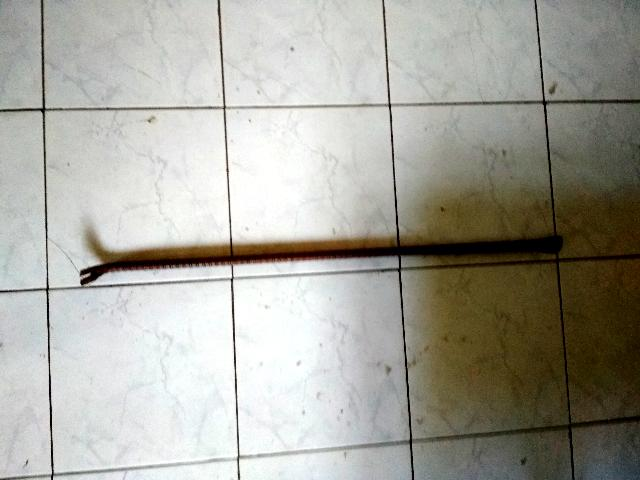crow bar: (65, 231, 569, 294)
